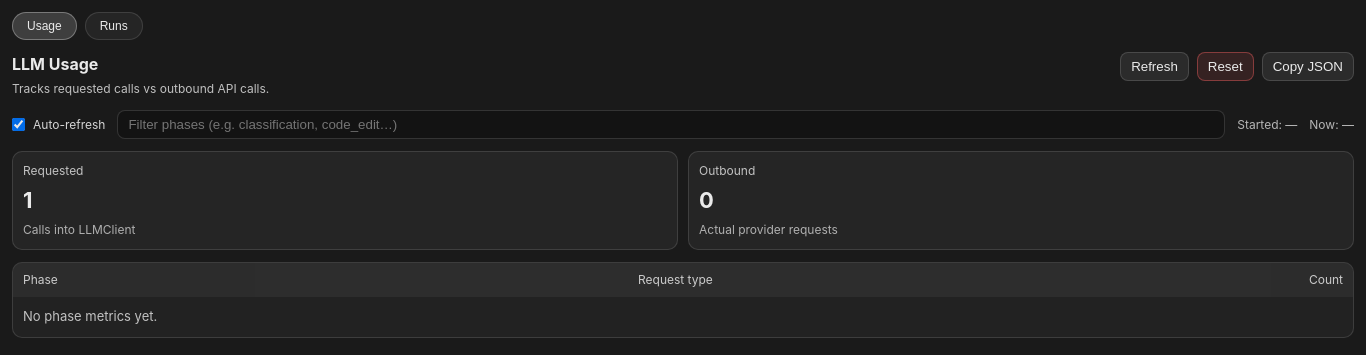
Test: LLMUsageTab › copy JSON uses prompt when clipboard is unavailable and marks copied
This screenshot has width=1366, height=355.
Click the button with test id "llm-usage-copy": (1308, 66) left=1262, top=52, right=1354, bottom=81
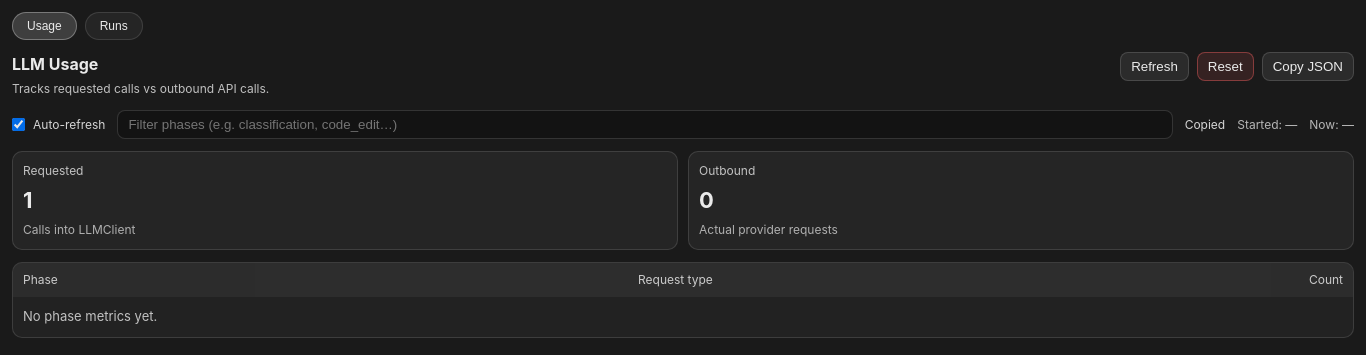
Check: the text "Copied" is shown, box left=1185, top=116, right=1225, bottom=134
